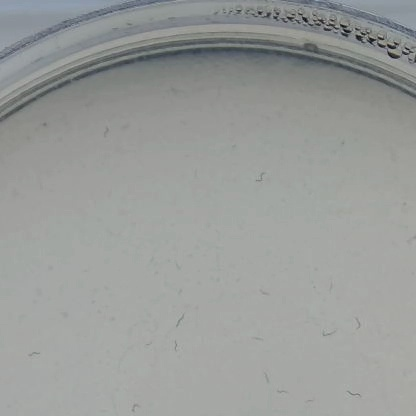worm: (161, 335, 183, 354), (251, 169, 272, 186), (342, 386, 365, 400), (24, 348, 47, 362), (126, 400, 144, 416), (173, 309, 186, 330), (351, 314, 364, 333), (404, 230, 416, 249), (247, 332, 265, 344), (255, 372, 276, 382), (319, 329, 339, 339), (102, 122, 111, 143), (325, 277, 336, 294), (272, 387, 290, 396), (258, 286, 271, 298), (302, 397, 317, 406)
